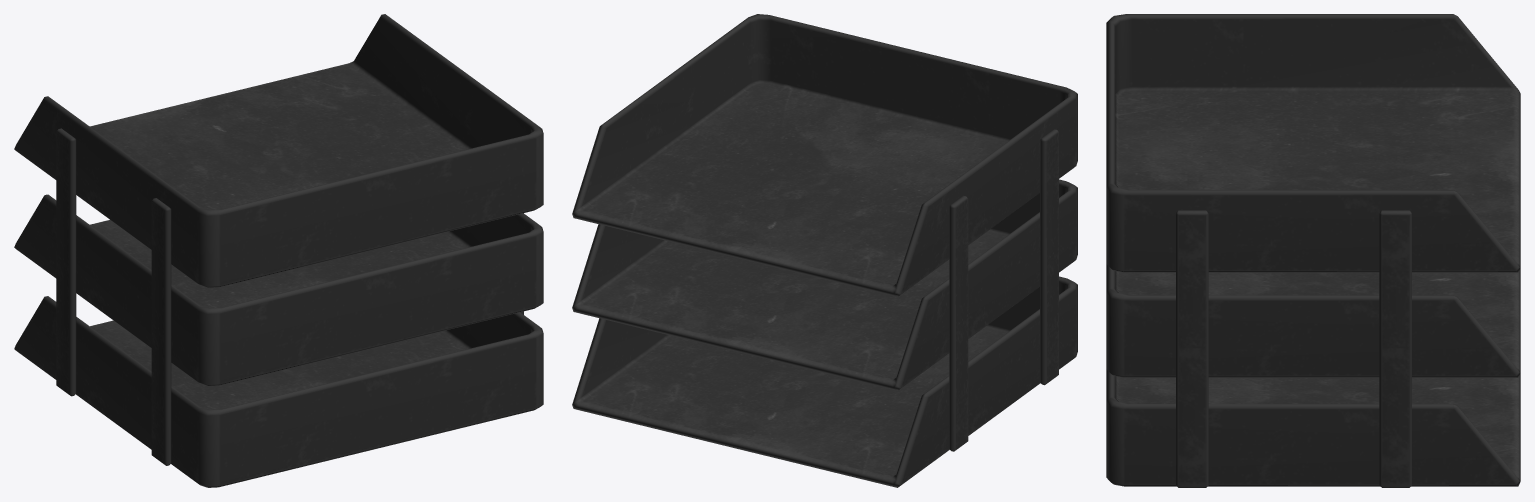
File: SM_Paper_Stand.fbx
3 views of the same model, side by side, from view 1: azimuth 30°, elevation 25°; view 2: azimuth 150°, elevation 25°; view 3: azimuth 270°, elevation 25° (orthographic). The views are drawn at different scales.
Parts seen in each view (by area): view 1: SM_Paper_Stand_LOD0; view 2: SM_Paper_Stand_LOD0; view 3: SM_Paper_Stand_LOD0.
Part boxes in pixels (bbox=[...]): SM_Paper_Stand_LOD0: bbox=[14, 14, 543, 487]; SM_Paper_Stand_LOD0: bbox=[572, 14, 1077, 487]; SM_Paper_Stand_LOD0: bbox=[1106, 14, 1520, 487].
Size of the model in its own units: 24.33 by 22.67 by 17.84.
1 material, 1 textured.
